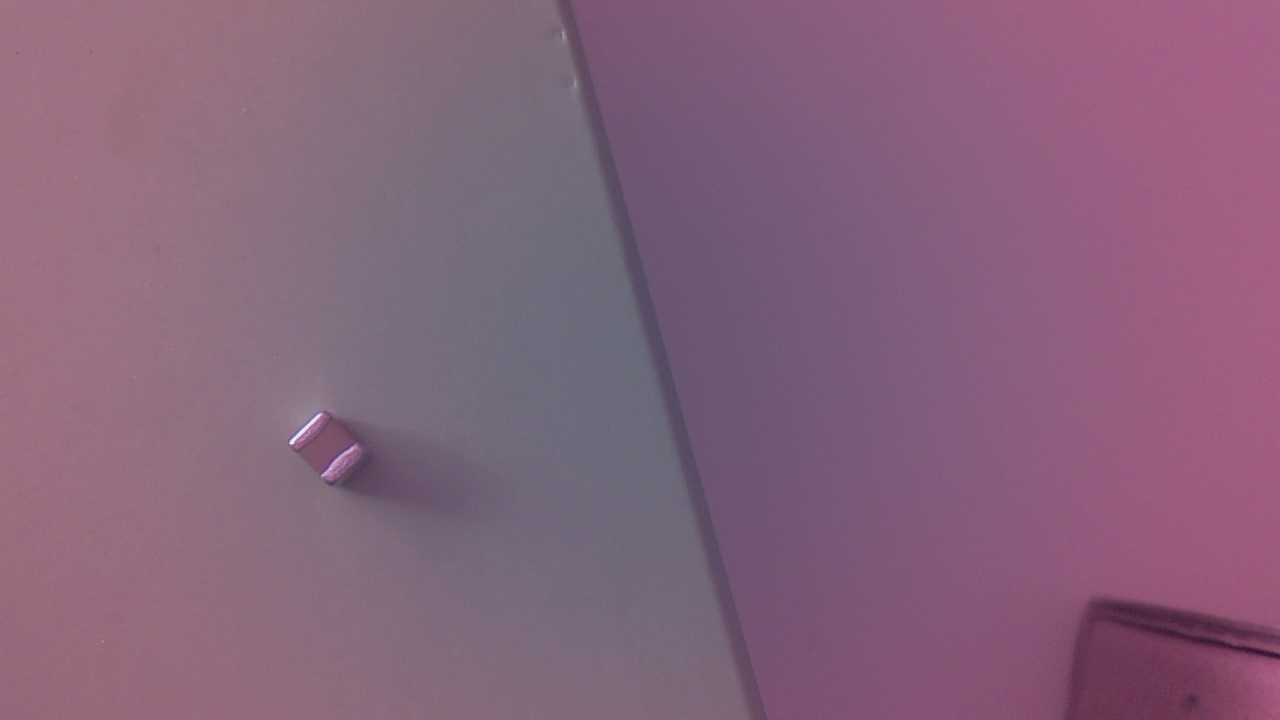Condensator: (293, 415, 377, 493)
